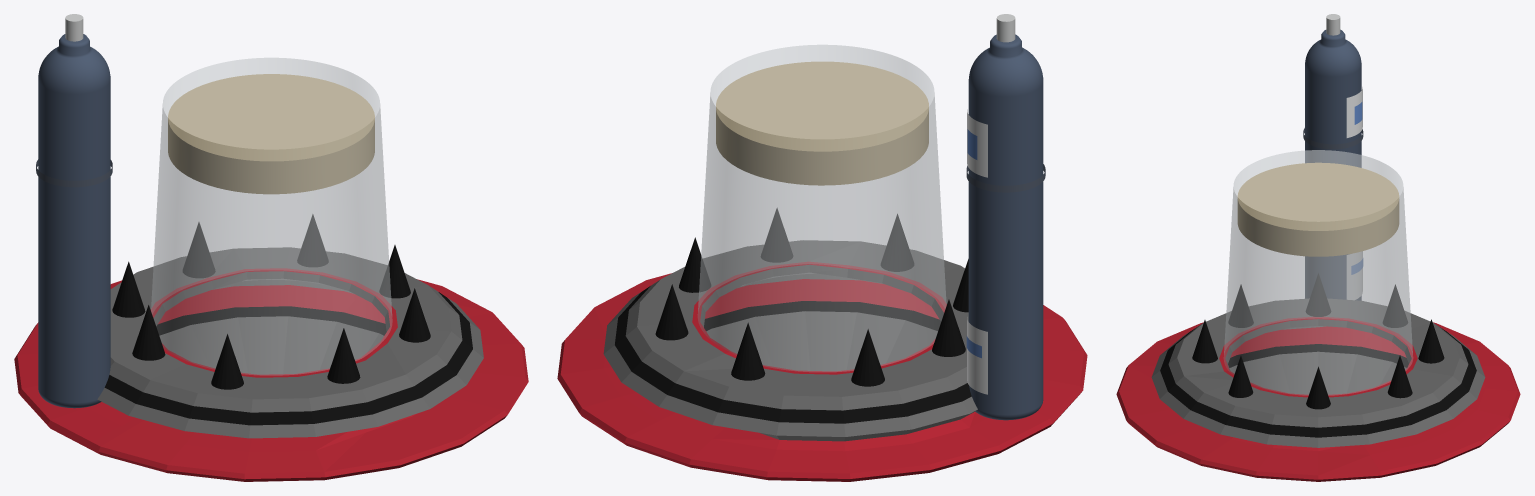
File: fable_t04.glb
3 views of the same model, side by side, from view 1: azimuth 30°, elevation 25°; view 2: azimuth 150°, elevation 25°; view 3: azimuth 270°, elevation 25° (orthographic). The views are drawn at different scales.
Parts seen in each view (by area): view 1: slot_anchor_saucer, glass_cover, gas_cylinder, brown_disc, gas_cylinder_band; view 2: slot_anchor_saucer, glass_cover, gas_cylinder, brown_disc, gas_cylinder_labels, gas_cylinder_band; view 3: slot_anchor_saucer, glass_cover, brown_disc, gas_cylinder, gas_cylinder_labels.
Boxes of the visible parts, left/top/right/bottom form: slot_anchor_saucer: left=14, top=214, right=528, bottom=481; glass_cover: left=151, top=57, right=392, bottom=375; gas_cylinder: left=38, top=34, right=110, bottom=408; brown_disc: left=168, top=74, right=374, bottom=194; gas_cylinder_band: left=36, top=159, right=112, bottom=187; slot_anchor_saucer: left=557, top=208, right=1087, bottom=481; glass_cover: left=697, top=44, right=946, bottom=371; gas_cylinder: left=968, top=34, right=1043, bottom=420; brown_disc: left=716, top=61, right=928, bottom=185; gas_cylinder_labels: left=967, top=109, right=987, bottom=394; gas_cylinder_band: left=966, top=164, right=1045, bottom=192; slot_anchor_saucer: left=1116, top=273, right=1520, bottom=481; glass_cover: left=1224, top=150, right=1412, bottom=395; brown_disc: left=1237, top=162, right=1399, bottom=256; gas_cylinder: left=1305, top=29, right=1361, bottom=300; gas_cylinder_labels: left=1346, top=87, right=1362, bottom=299.
Bounding box in the file's own units: 2 × 2.01 × 2.
Materials: 8 (1 with a texture image).
